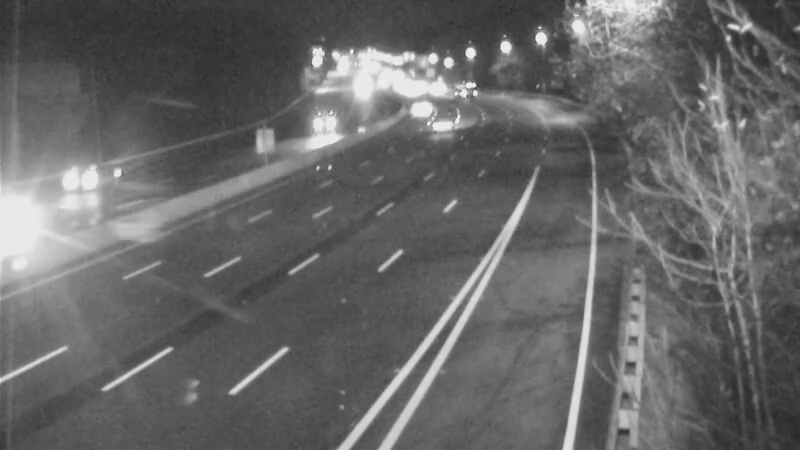vehicle: (40, 138, 120, 218), (1, 182, 68, 262), (443, 63, 493, 113), (416, 65, 466, 115), (398, 84, 448, 134), (417, 99, 467, 149), (292, 97, 342, 147)
